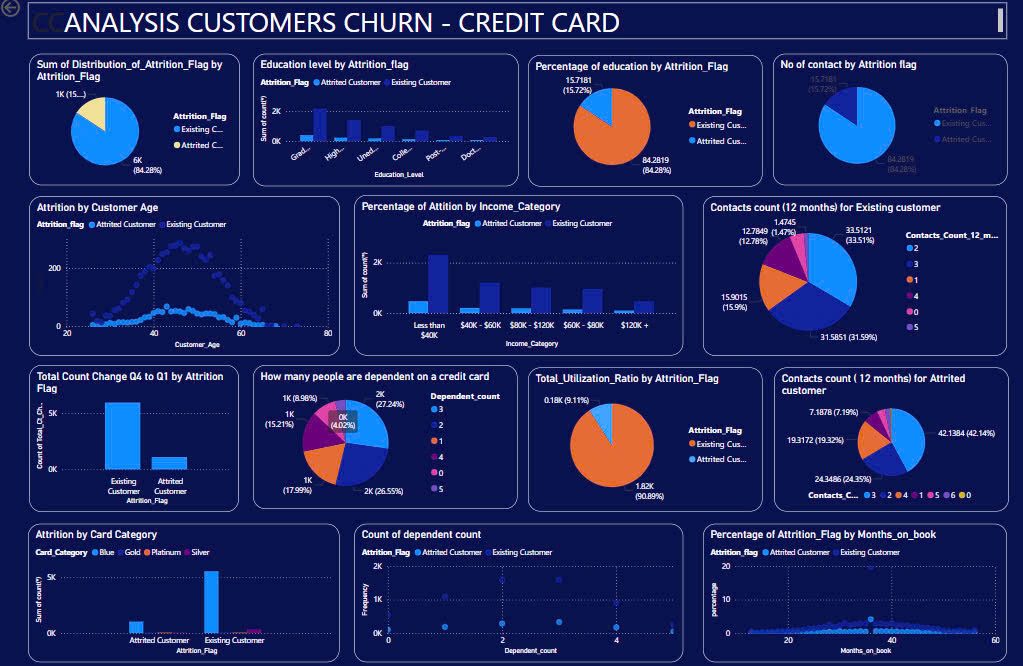

Layout of this report page (visuals, bound fields, positions):
{"tool":"powerbi","page":{"name":"Page 1","canvas":[1664,1084],"ordinal":2},"visuals":[{"type":"pieChart","fields":{"Category":["Attition_flag.Attrition_Flag"],"Y":["Sum(Attition_flag.Distribution_of_Attrition_Flag)"]},"box":[50,93.3,336.7,210],"z":0},{"type":"clusteredColumnChart","title":"Percentage of Attition by Income_Category ","fields":{"Category":["Income_Category.Income_Category"],"Series":["Income_Category.Attrition_flag"],"Y":["Sum(Income_Category.count(*))"]},"box":[570,320,526.7,256.7],"z":1000},{"type":"actionButton","box":[0,0,100,40],"z":2000},{"type":"clusteredColumnChart","title":"Education level by Attrition_flag","fields":{"Category":["Education.Education_Level"],"Series":["Education.Attrition_Flag"],"Y":["Sum(Education.count(*))"]},"box":[408.3,93.3,425,211.7],"z":3000},{"type":"pieChart","title":" Percentage of education  by Attrition_Flag","fields":{"Category":["Education.Attrition_Flag"],"Y":["Sum(Education.percentage)"]},"box":[848.3,95,375,210],"z":4000},{"type":"scatterChart","title":"Attrition by Customer Age ","fields":{"X":["Customer_Age.Customer_Age"],"Y":["Customer_Age.count(*)"],"Series":["Customer_Age.Attrition_flag"]},"box":[50,321.7,496.7,255],"z":5000},{"type":"lineClusteredColumnComboChart","title":"Attrition by Card Category","fields":{"Category":["Card_Category.Attrition_Flag","Card_Category.Gender"],"Y":["Sum(Card_Category.count(*))"],"Series":["Card_Category.Card_Category"]},"box":[48.3,845,498.3,221.7],"z":6000},{"type":"scatterChart","title":"Count of dependent count","fields":{"Series":["Dependent_count.Attrition_Flag"],"X":["Dependent_count.Dependent_count"],"Y":["Dependent_count.count(*)"]},"box":[570,845,526.7,221.7],"z":7000},{"type":"pieChart","title":"How many people are dependent on a credit card","fields":{"Y":["Sum(Dependent_count.count(*))"],"Category":["Dependent_count.Dependent_count"],"Series":["Dependent_count.Dependent_count"]},"box":[408.3,591.7,423.3,230],"z":8000},{"type":"scatterChart","title":"Percentage of Attrition_Flag by Months_on_book","fields":{"X":["Months_on_book.Months_on_book"],"Y":["Months_on_book.percentage"],"Series":["Months_on_book.Attrition_flag"]},"box":[1128.3,845,486.7,221.7],"z":9000},{"type":"pieChart","title":"No of contact by Attrition flag","fields":{"Category":["No_of_Contacts.Attrition_Flag"],"Y":["Sum(No_of_Contacts.percentage)"]},"box":[1240,93.3,375,210],"z":10000},{"type":"pieChart","title":"Contacts count ( 12 months) for Attrited customer","fields":{"Category":["Contact_count_Attrited.Contacts_Count_12_mon"],"Y":["Sum(Contact_count_Attrited.percentage)"],"Series":["Contact_count_Attrited.percentage"]},"box":[1241.7,596.7,375,230],"z":11000},{"type":"pieChart","title":"Contacts count (12 months) for Existing customer","fields":{"Category":["Contact_count_Existing.Contacts_Count_12_mon"],"Y":["Sum(Contact_count_Existing.percentage)"],"Series":["Contact_count_Existing.percentage"]},"box":[1128.3,321.7,486.7,255],"z":12000},{"type":"pieChart","title":"Total_Utilization_Ratio by Attrition_Flag","fields":{"Category":["Total_Avg_Utilization_Ratio.Attrition_Flag"],"Y":["Sum(Total_Avg_Utilization_Ratio.Total_Utilization_Ratio)"]},"box":[848.3,596.7,375,230],"z":13000},{"type":"lineStackedColumnComboChart","title":"Total Count Change Q4 to Q1 by Attrition Flag","fields":{"Category":["Trans_count_Q4_over_Q1.Attrition_Flag"],"Y":["CountNonNull(Trans_count_Q4_over_Q1.Total_Ct_Chng_Q4_Q1)"]},"box":[50,591.7,335,235],"z":14000},{"type":"textbox","box":[48.3,20,1566.7,58.3],"z":16000}]}

Visuals, with their boxes in screenshot pixels (x1, y1, x2, y2), scaled from the page's 1664x1084 canvas onto the 1023x666 screenshot:
pieChart - Attition_flag.Attrition_Flag x Sum(Attition_flag.Distribution_of_Attrition_Flag): 31,57,238,186
"Percentage of Attition by Income_Category " clusteredColumnChart: 350,197,674,354
actionButton: 0,0,61,25
"Education level by Attrition_flag" clusteredColumnChart: 251,57,512,187
" Percentage of education  by Attrition_Flag" pieChart: 522,58,752,187
"Attrition by Customer Age " scatterChart: 31,198,336,354
"Attrition by Card Category" lineClusteredColumnComboChart: 30,519,336,655
"Count of dependent count" scatterChart: 350,519,674,655
"How many people are dependent on a credit card" pieChart: 251,364,511,505
"Percentage of Attrition_Flag by Months_on_book" scatterChart: 694,519,993,655
"No of contact by Attrition flag" pieChart: 762,57,993,186
"Contacts count ( 12 months) for Attrited customer" pieChart: 763,367,994,508
"Contacts count (12 months) for Existing customer" pieChart: 694,198,993,354
"Total_Utilization_Ratio by Attrition_Flag" pieChart: 522,367,752,508
"Total Count Change Q4 to Q1 by Attrition Flag" lineStackedColumnComboChart: 31,364,237,508
textbox: 30,12,993,48
